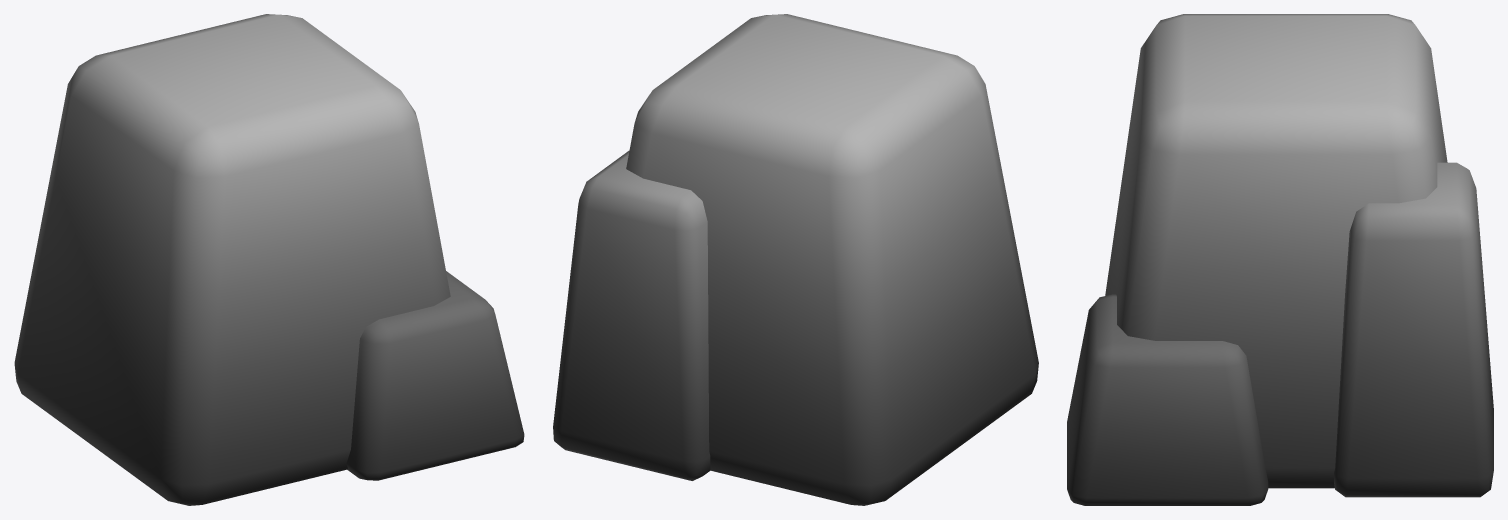
Rendered from pedra pequena.fbx.
3 views of the same model, side by side, from view 1: azimuth 30°, elevation 25°; view 2: azimuth 150°, elevation 25°; view 3: azimuth 270°, elevation 25° (orthographic). The views are drawn at different scales.
Visible parts, largest first — view 1: Pedrapequena; view 2: Pedrapequena; view 3: Pedrapequena.
Boxes of the visible parts, bbox=[...] form: Pedrapequena: bbox=[14, 14, 524, 505]; Pedrapequena: bbox=[553, 14, 1038, 505]; Pedrapequena: bbox=[1067, 14, 1493, 505].
Bounding box in the file's own units: 102 × 101 × 107.
